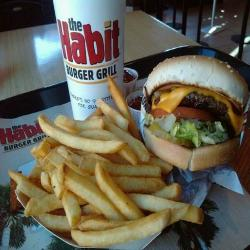burger: (136, 53, 250, 179)
fries: (22, 113, 178, 235)
ketchup: (118, 91, 149, 123), (114, 65, 142, 95)
